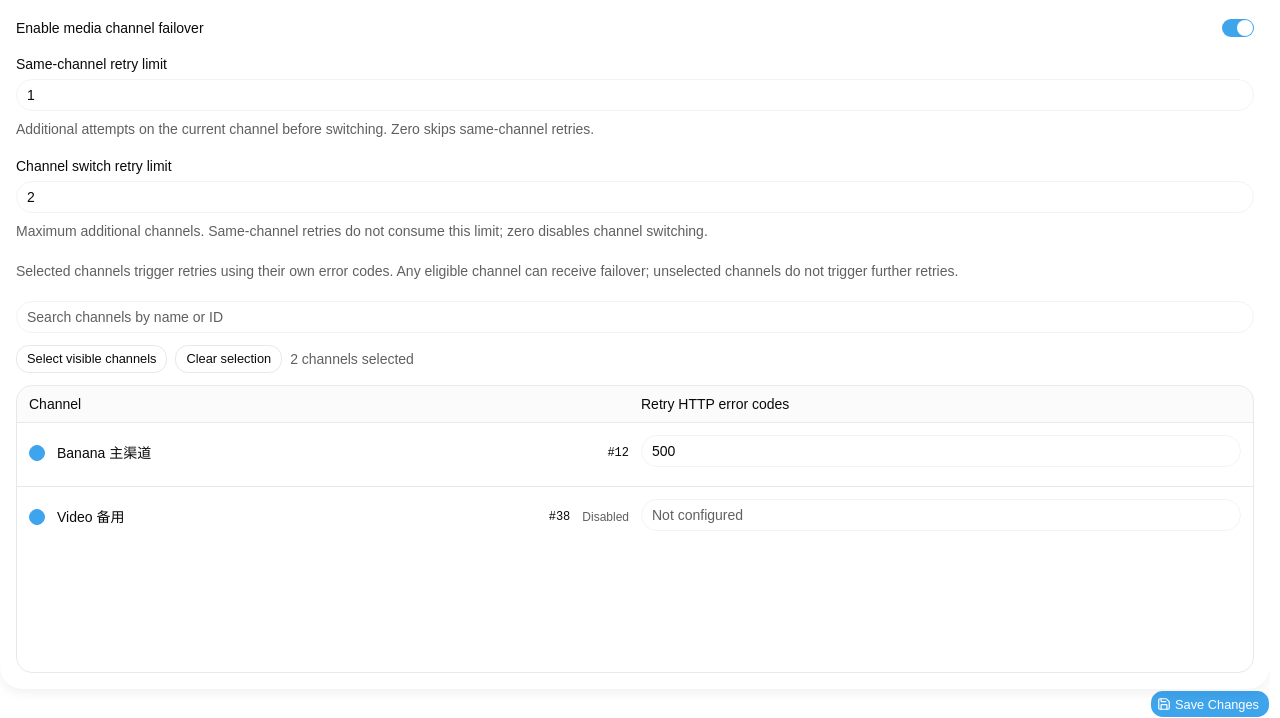
媒体换渠道重试设置 › 启用时勾选的渠道必须填写错误码
(page scrolled)
Click the button "Save Changes" at (1210, 704), box [1150,690,1270,717]
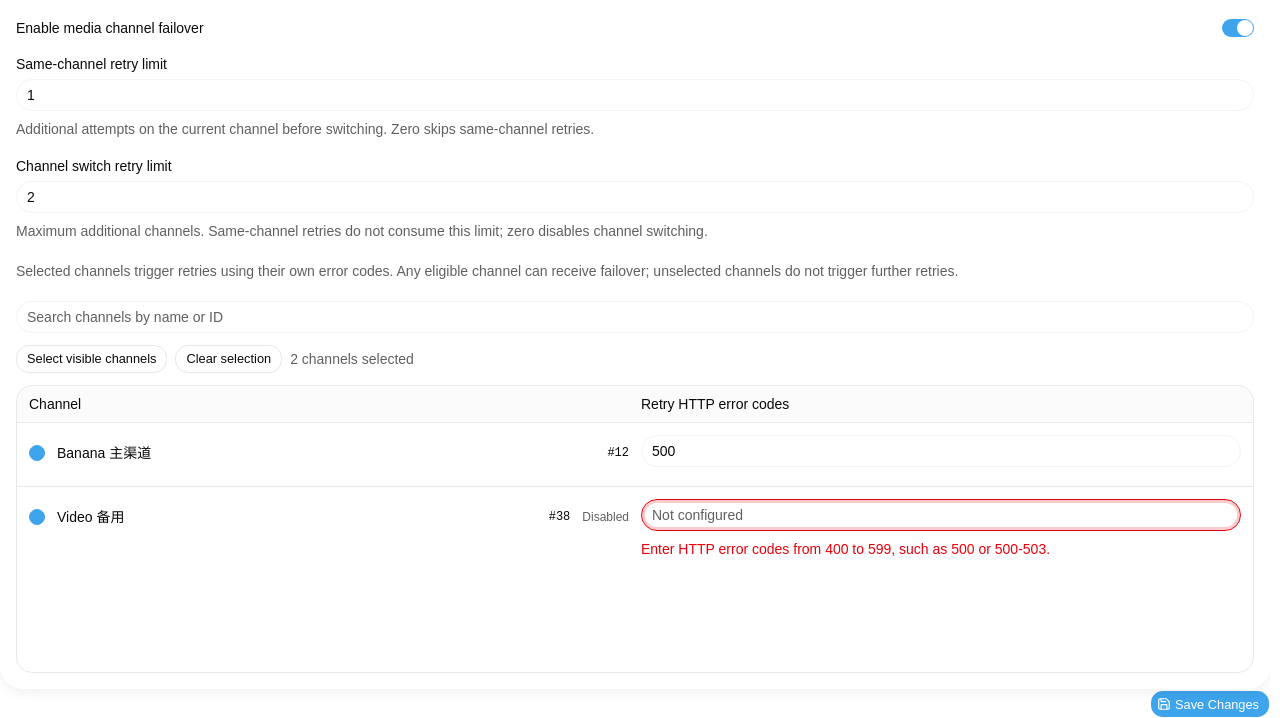
expect the text "Enter HTTP error codes from 400 to 599, such as 500 or 500-503." is shown: met, box [641,541,1050,557]
